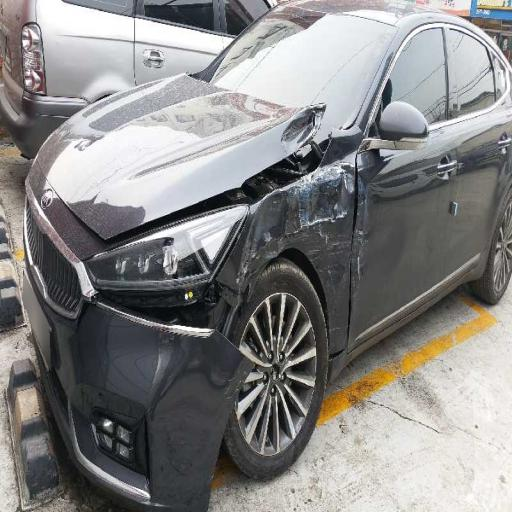broken: (87, 208, 323, 378)
dent: (117, 103, 318, 171)
scratch: (256, 167, 387, 260)
